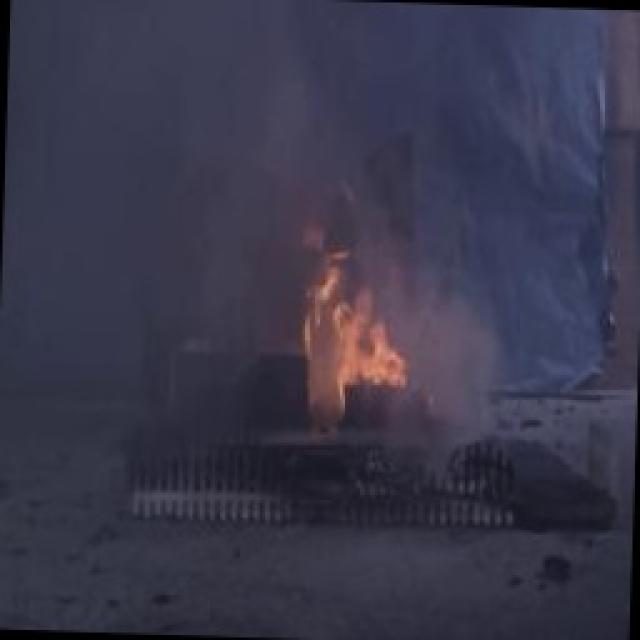fire: (295, 232, 417, 402)
